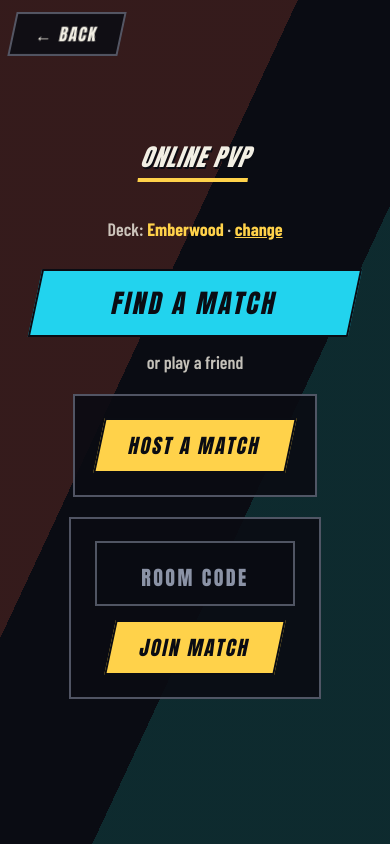
Test case: the lobby, against a real second player › finds a match, shows the count, lets both players ready up, and starts the game for this player
The width and height of the screenshot is (390, 844).
Earlier steps of the test are not shown.
Later steps or results of the test are not shown.
Step 1. Click the button "Find a match" → click(195, 303), box [28,269,362,337]
Wait 900 ms
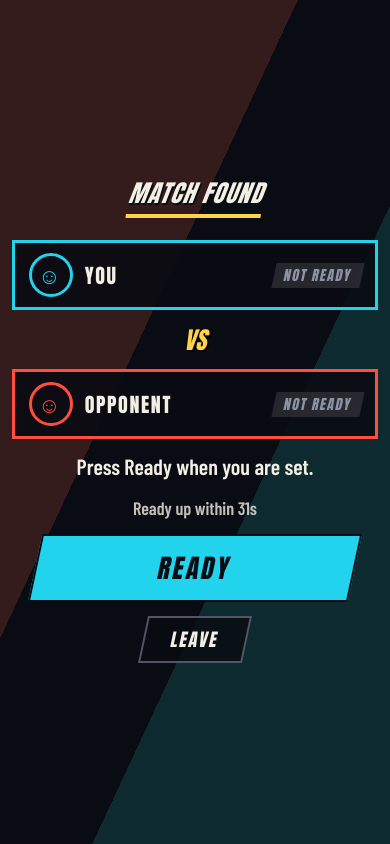
Now the heading "Match found" is shown, box [125,181,265,218]
Step 2. Click the button "Ready" → click(195, 568), box [28,534,362,602]
Wait 4700 ms
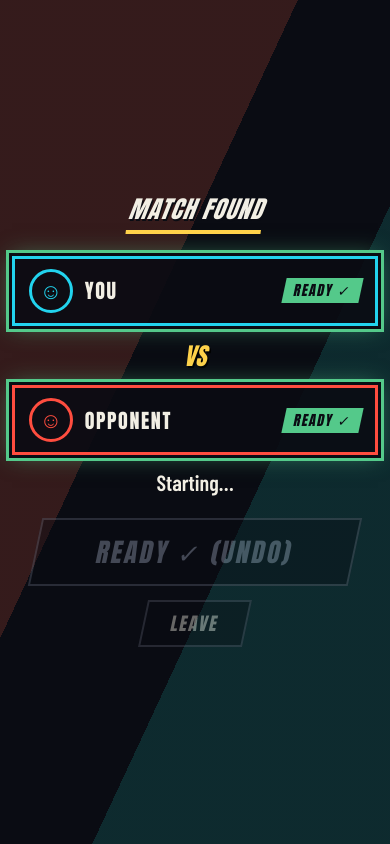
Now the element with test id "seat-me" has attribute data-state="ready", box [12,256,378,326]
Now the element with test id "seat-foe" has attribute data-state="ready", box [12,385,378,455]
